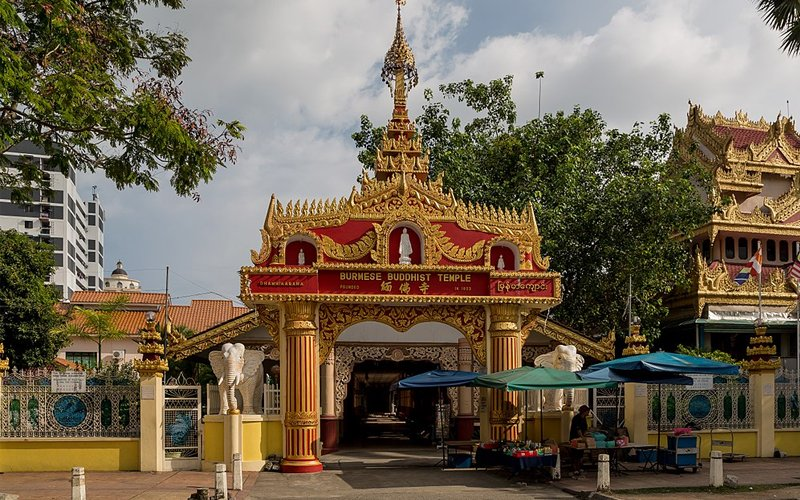Buddhist Temple: (118, 14, 533, 440)
